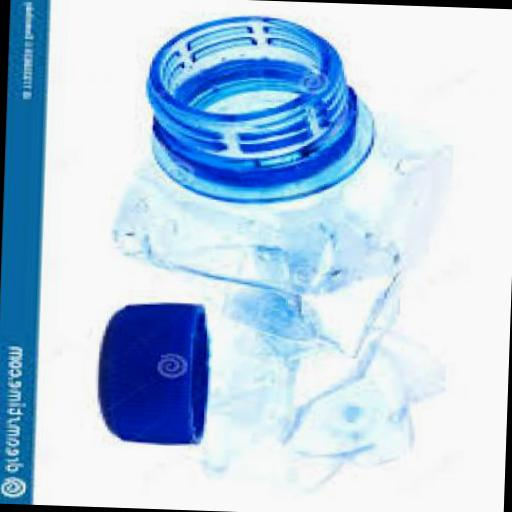plastic: (104, 13, 462, 497), (98, 302, 214, 448)
